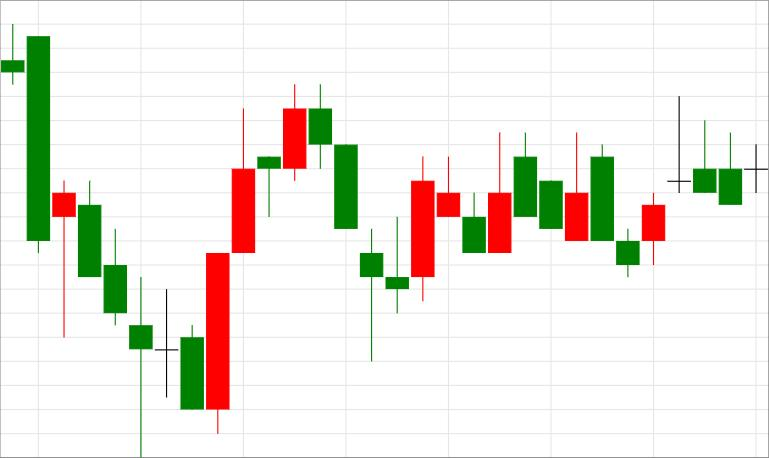bullish_engulfing_rise: (78, 180, 230, 458)
morning_star_rise: (309, 84, 436, 361)
